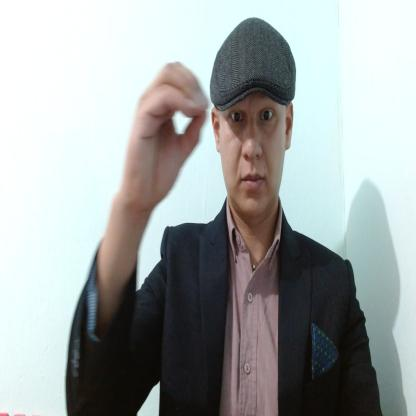O: (123, 57, 209, 205)
